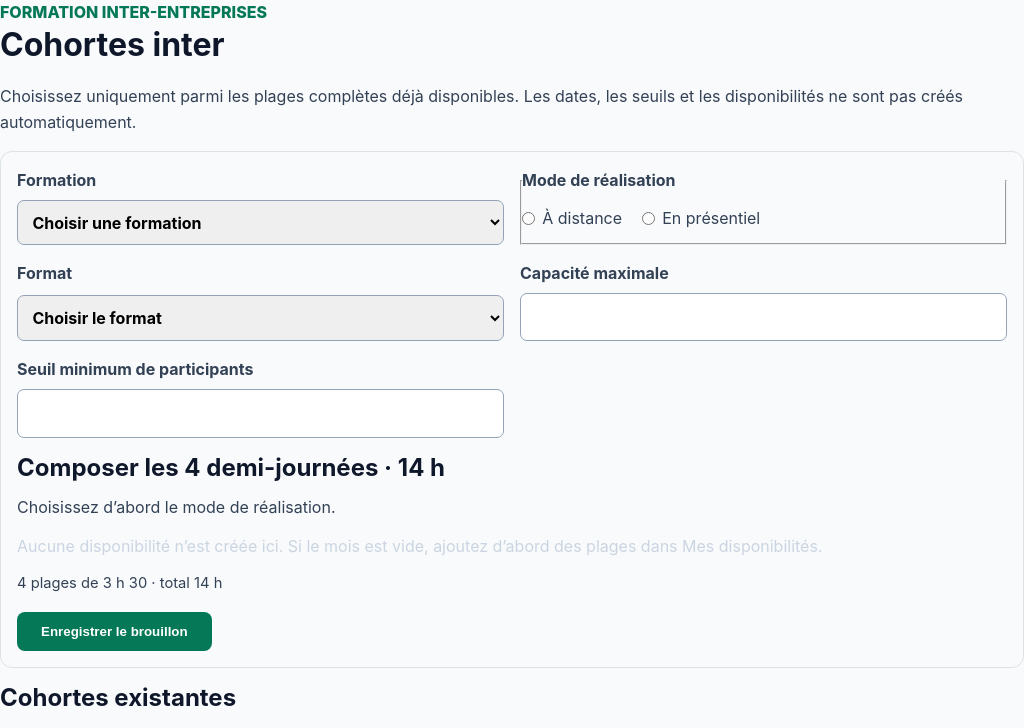
Test: ne propose pas une plage trouée, réservée ou incompatible
Select "Word Initiation" in the dropdown labelled "Formation" at (260, 223), box x1=17 y1=200 x2=504 y2=245
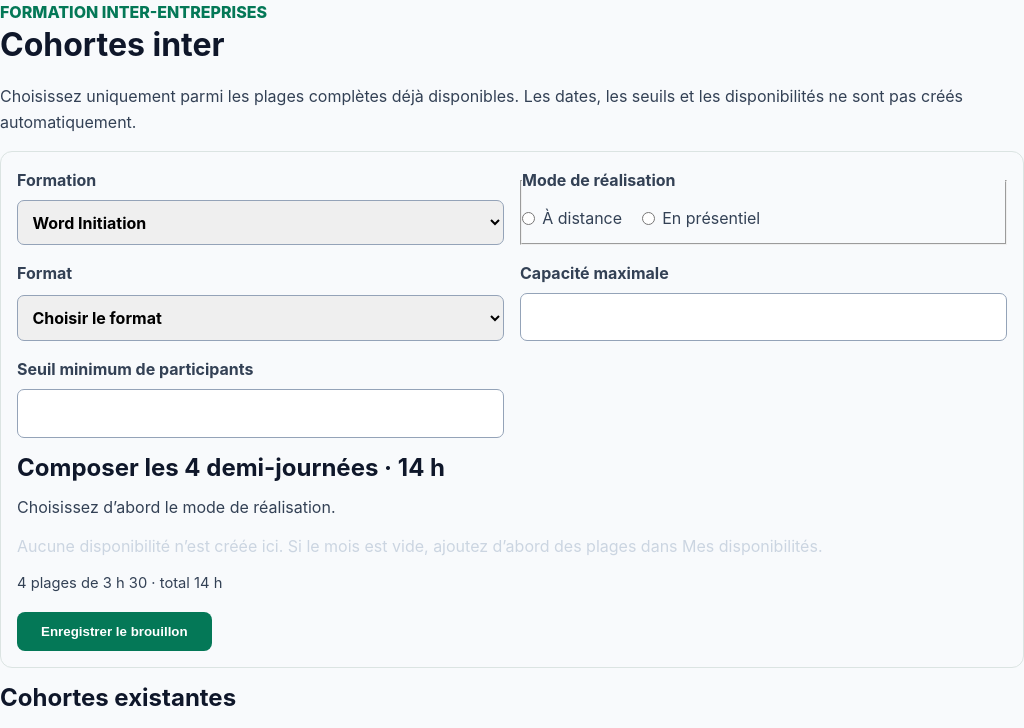
Click the radio button labelled "À distance".
click(528, 218)  # box x1=522 y1=212 x2=535 y2=225
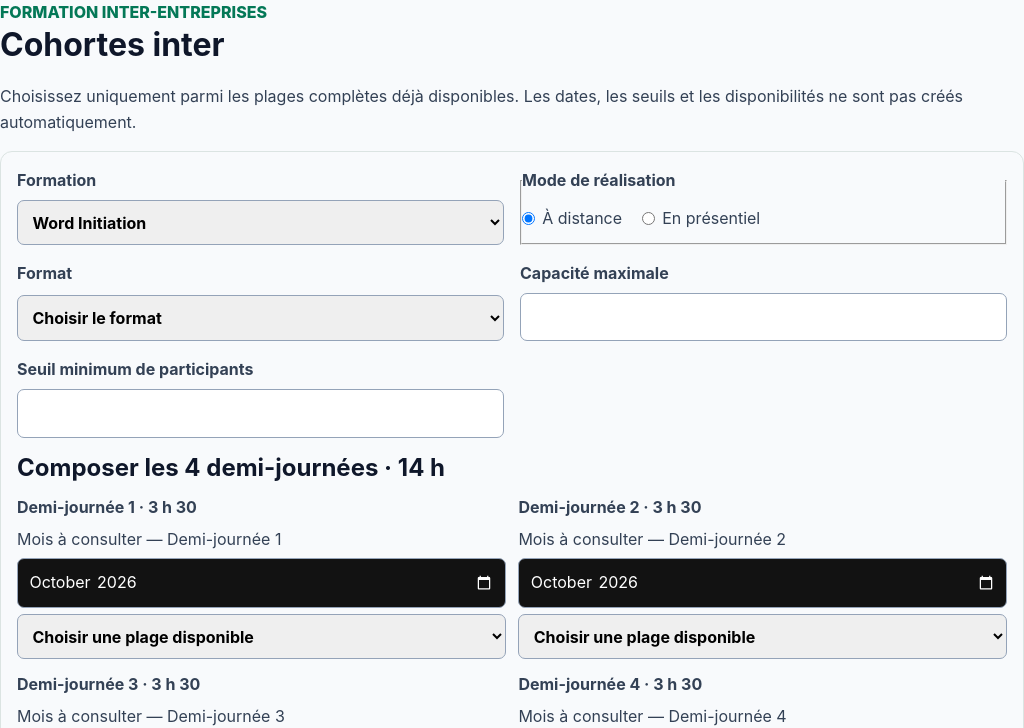
Select "4 demi-journées de 3 h 30" in the dropdown labelled "Format" at (260, 318), box x1=17 y1=295 x2=504 y2=341
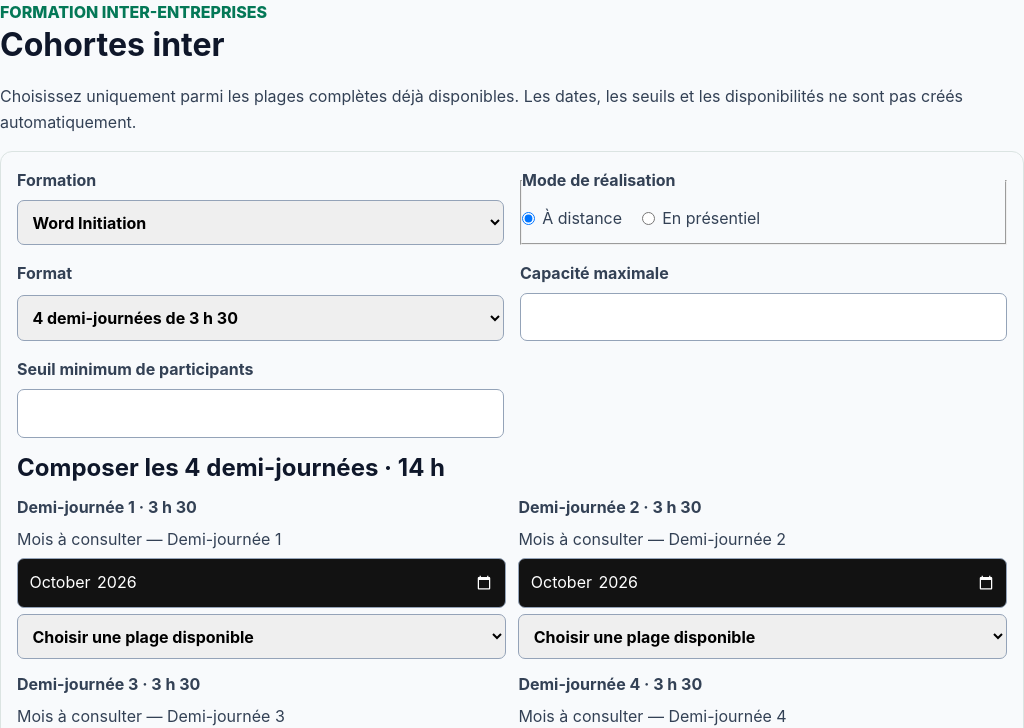
Type "8" into the number field labelled "Capacité maximale".
click(764, 317); type("8")  # box x1=520 y1=293 x2=1007 y2=341
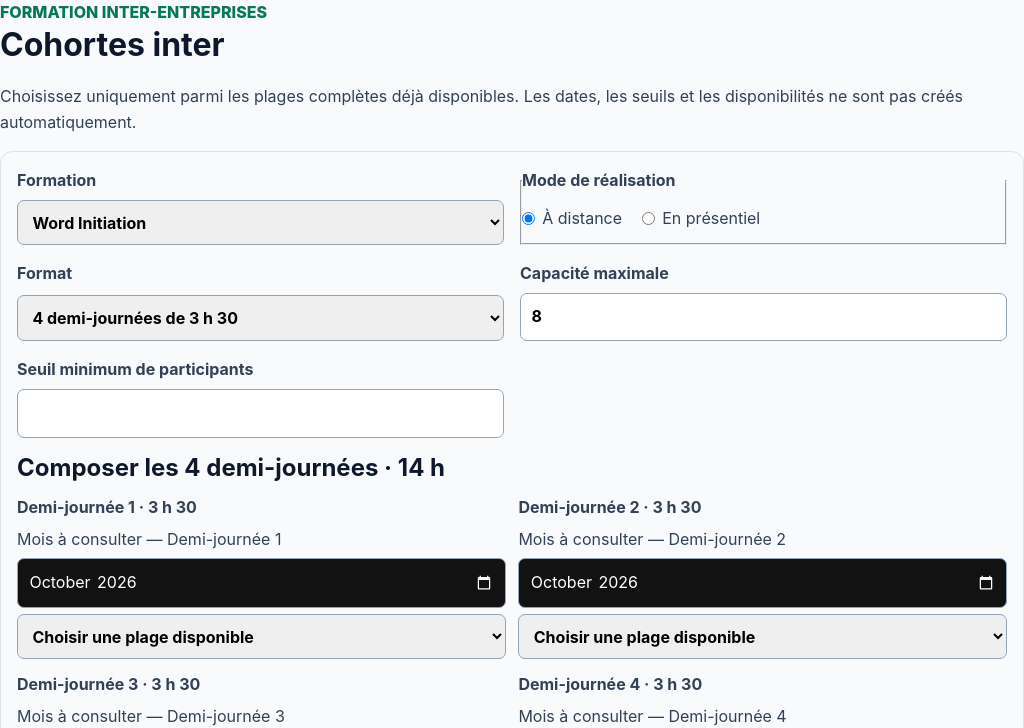
Type "4" into the number field labelled "Seuil minimum de participants".
click(260, 414); type("4")  # box x1=17 y1=389 x2=504 y2=438
(page scrolled)
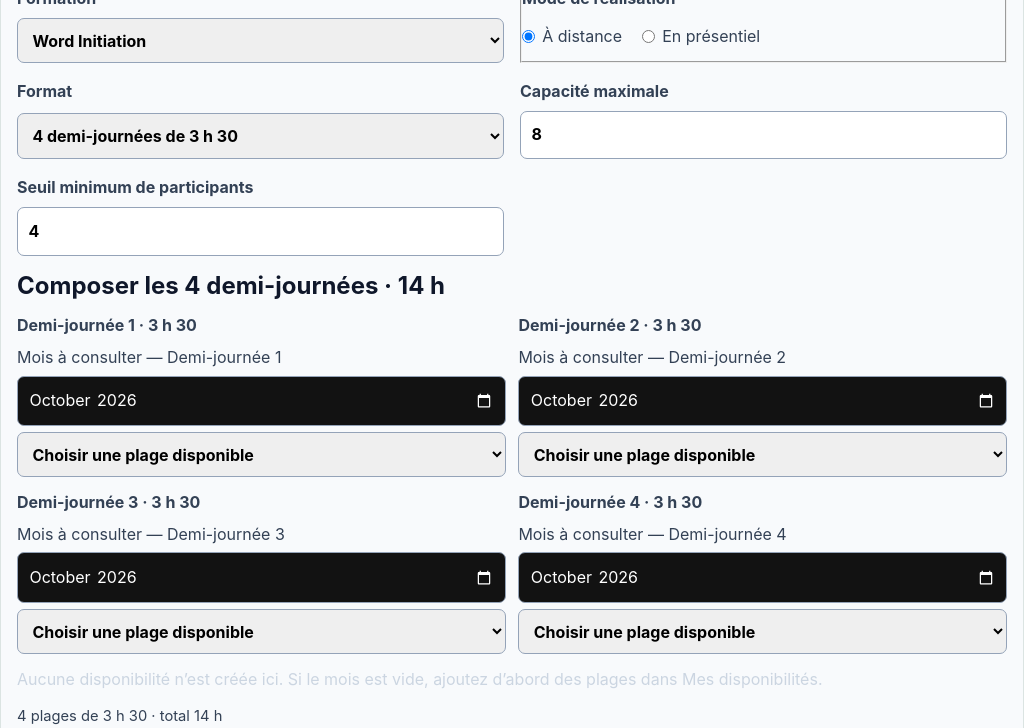
Submit the form named "Enregistrer le brouillon"
(page scrolled)
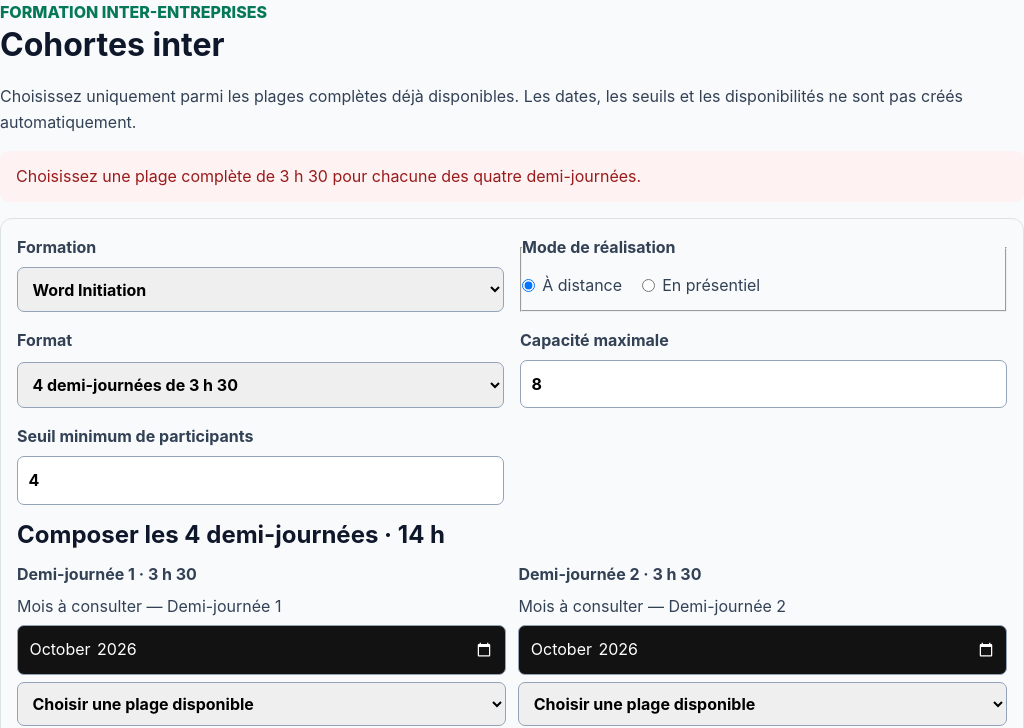
Expected: the message shows "plage complète", x1=16 y1=166 x2=641 y2=186
